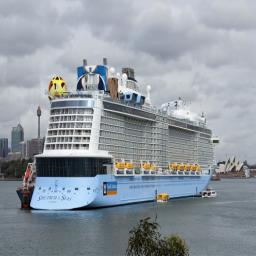cruises: (32, 58, 222, 216)
